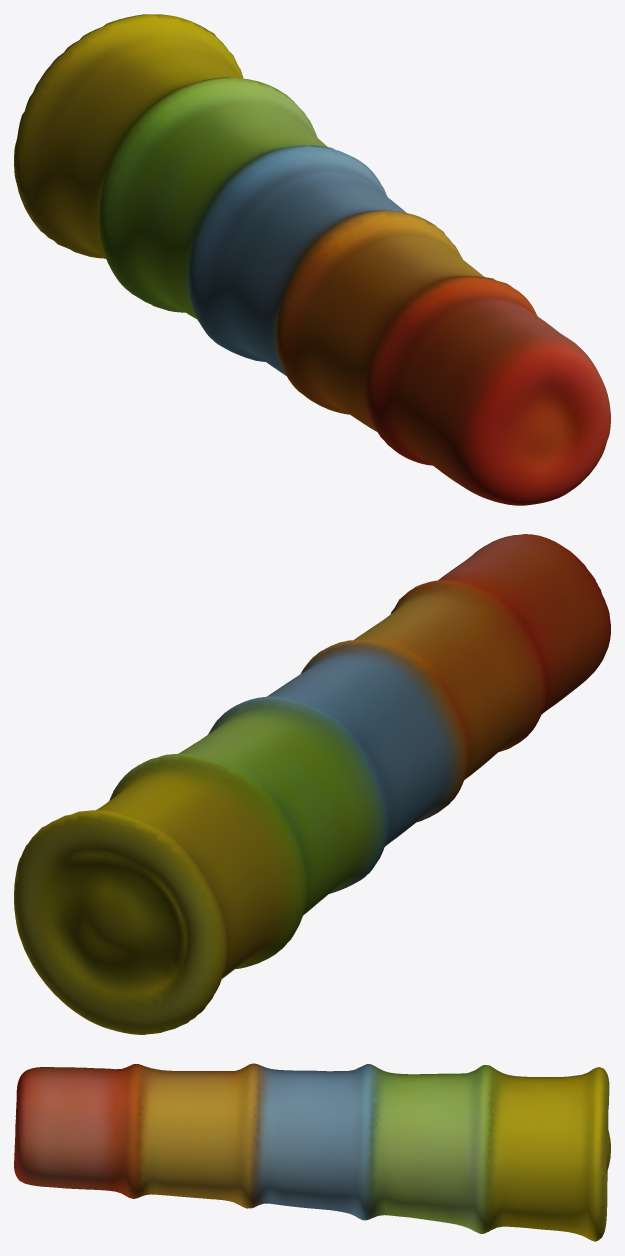
The model's file is stucking_cups.glb.
The picture shows the model from 3 angles, top to bottom: view 1: azimuth 30°, elevation 25°; view 2: azimuth 150°, elevation 25°; view 3: azimuth 270°, elevation 25°; orthographic projection. The views are drawn at different scales.
Bounding box in the file's own units: 0.2944 × 0.288 × 0.9997.
